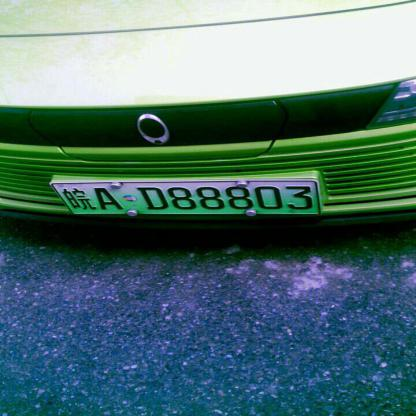lp: (51, 180, 76, 215)
